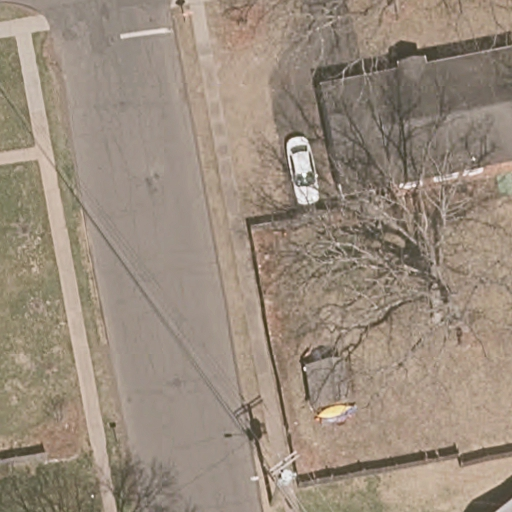DT: (249, 451, 300, 507)
